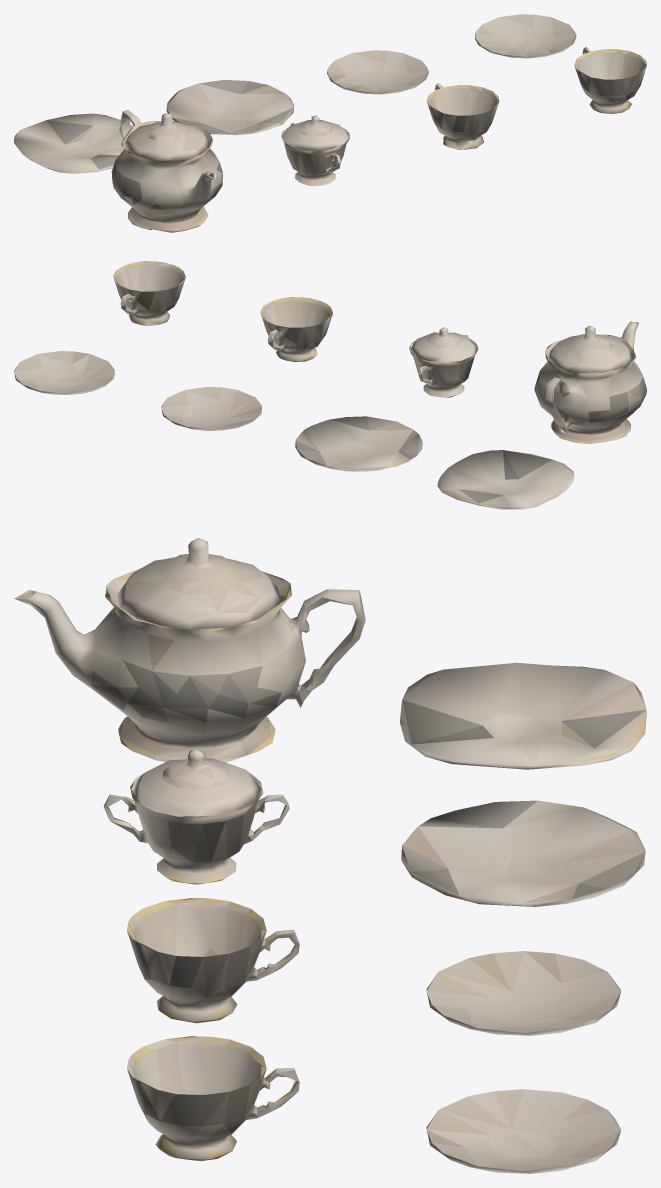
File: tea-set.glb
3 renders of one model, top to bottom at view 1: azimuth 30°, elevation 25°; view 2: azimuth 150°, elevation 25°; view 3: azimuth 270°, elevation 25°, orthographic. The views are drawn at different scales.
Visible parts, largest first — view 1: tea-set; view 2: tea-set; view 3: tea-set.
Boxes of the visible parts, x1,y1,x2,y2 form: tea-set: [14, 14, 646, 232]; tea-set: [14, 261, 646, 509]; tea-set: [14, 538, 646, 1173].
Bounding box in the file's own units: 0.9189 × 0.1651 × 0.4843.
